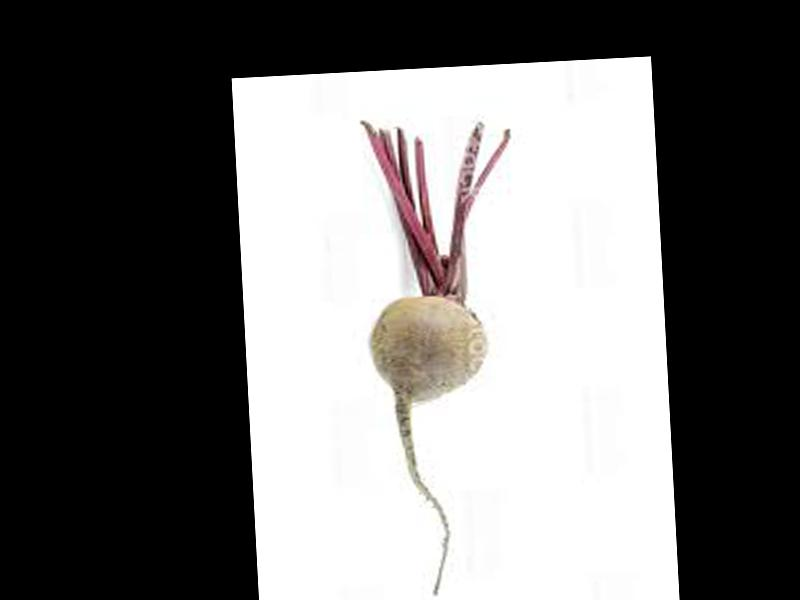Beet: (359, 115, 531, 600)
